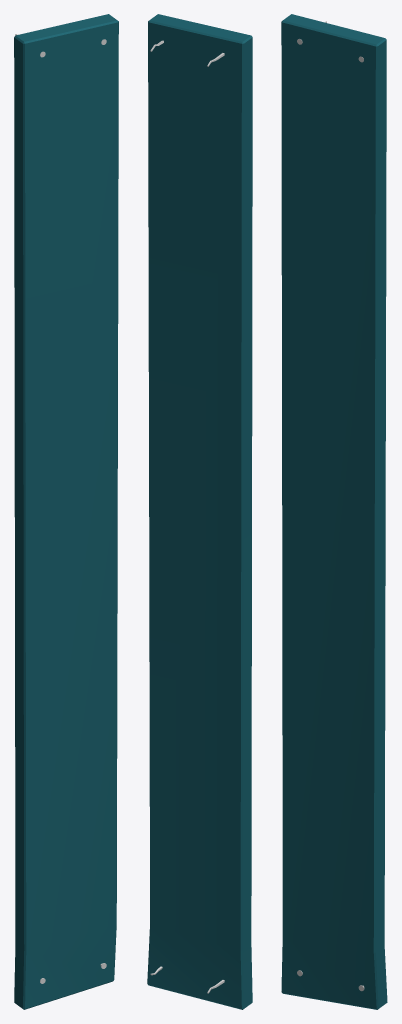
File: plywood_set_5.FBX
3 views of the same model, side by side, from view 1: azimuth 30°, elevation 25°; view 2: azimuth 150°, elevation 25°; view 3: azimuth 330°, elevation 25° (orthographic).
Visible parts, largest first — view 1: plywood_set_rc_5; view 2: plywood_set_rc_5; view 3: plywood_set_rc_5.
Boxes of the visible parts, box(x1,y1,x2,y2) form: plywood_set_rc_5: box(14, 14, 118, 1009); plywood_set_rc_5: box(147, 14, 252, 1009); plywood_set_rc_5: box(281, 14, 387, 1009).
Bounding box in the file's own units: 10.21 × 98.43 × 4.95.
